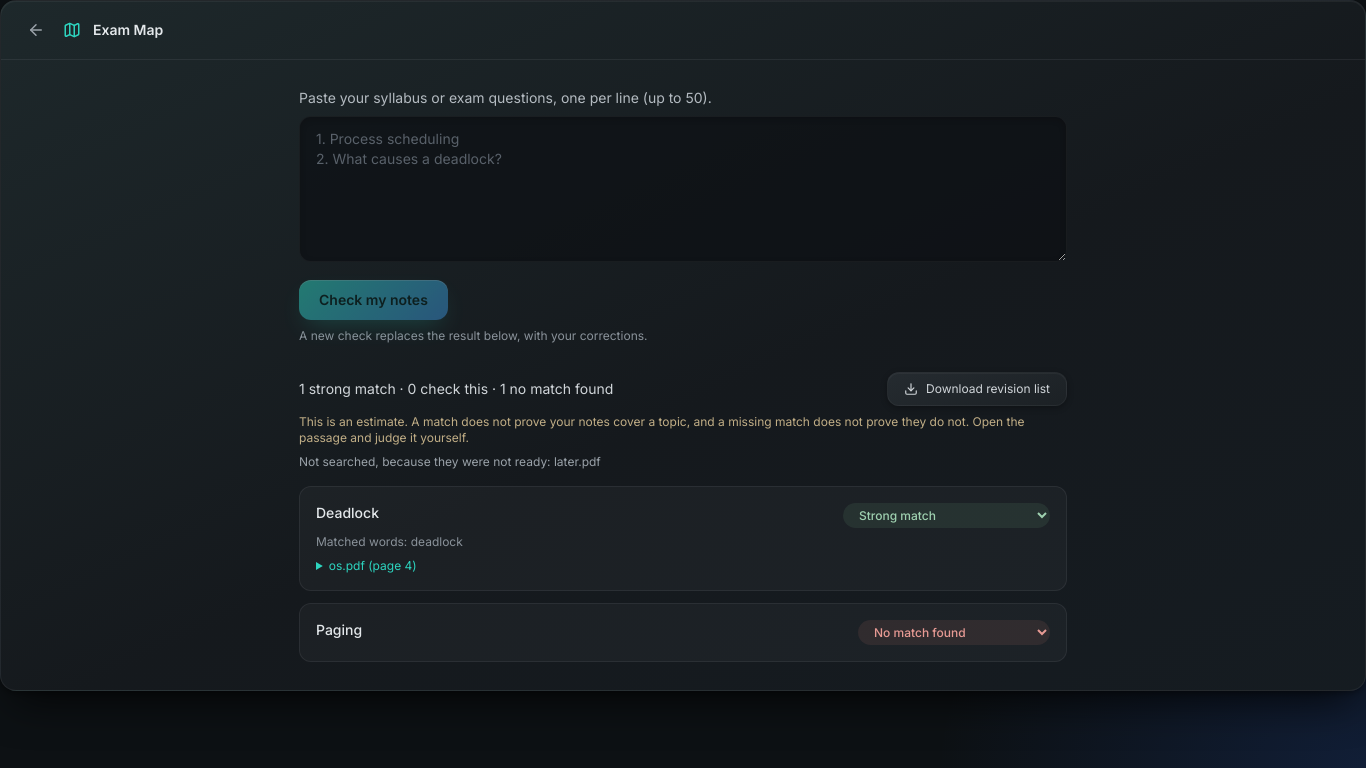
Test: Exam Map › saves a correction, and puts the old label back when saving fails
Select "Check this (my choice)" in the dropdown named "Label for Paging" at (954, 632), box [858,620,1050,645]
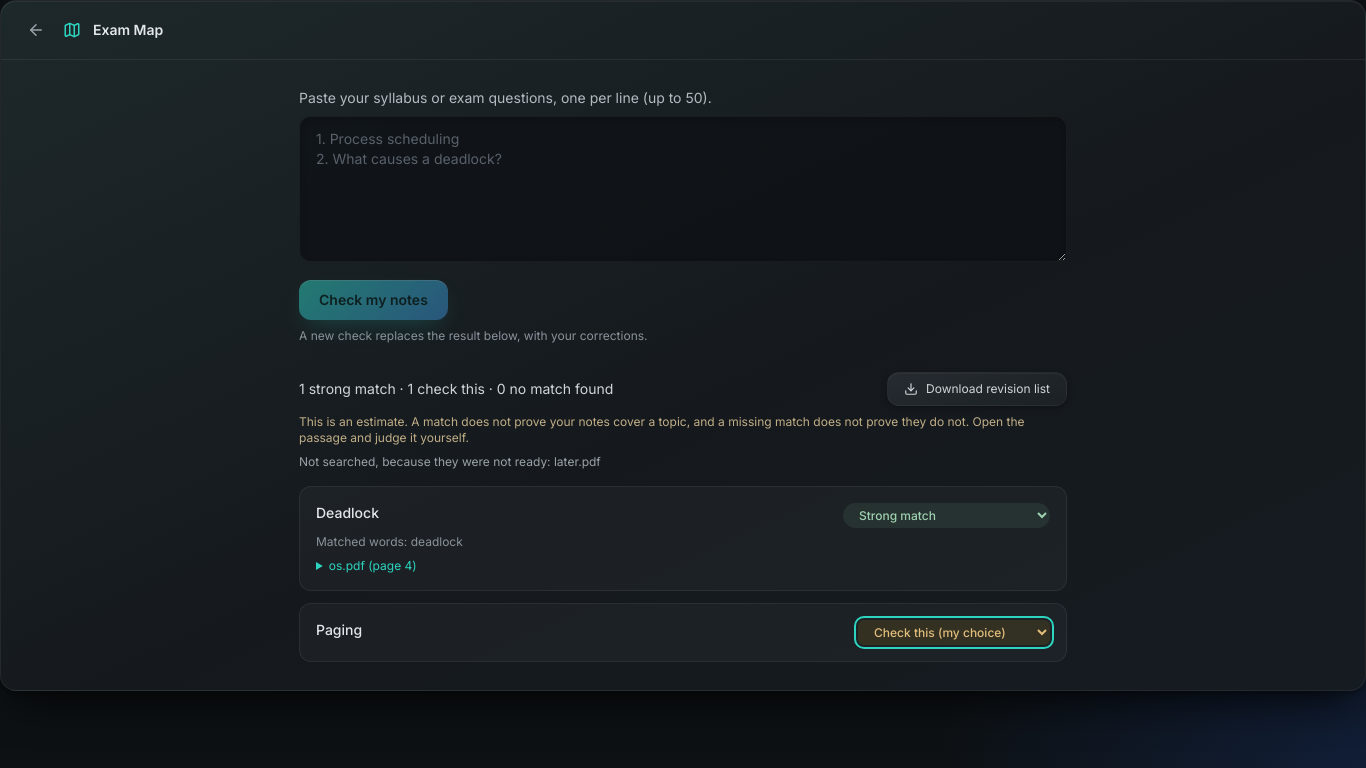
Result: the text "1 strong match · 1 check this · 0 no match found" is shown at [299,379,613,399]
Select "Strong match (my choice)" in the dropdown named "Label for Paging" at (954, 632), box [858,620,1050,645]
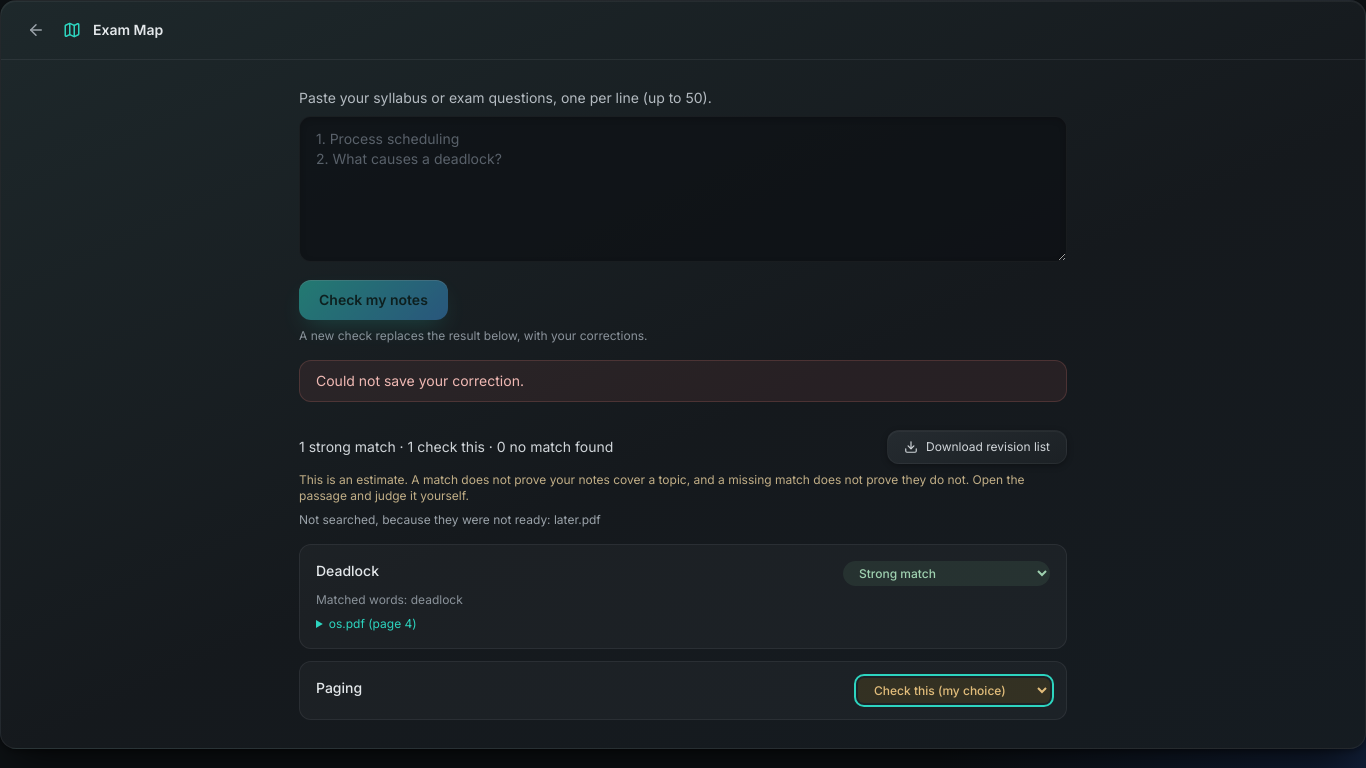
Result: the message shows "Could not save" at [316,372,524,389]
